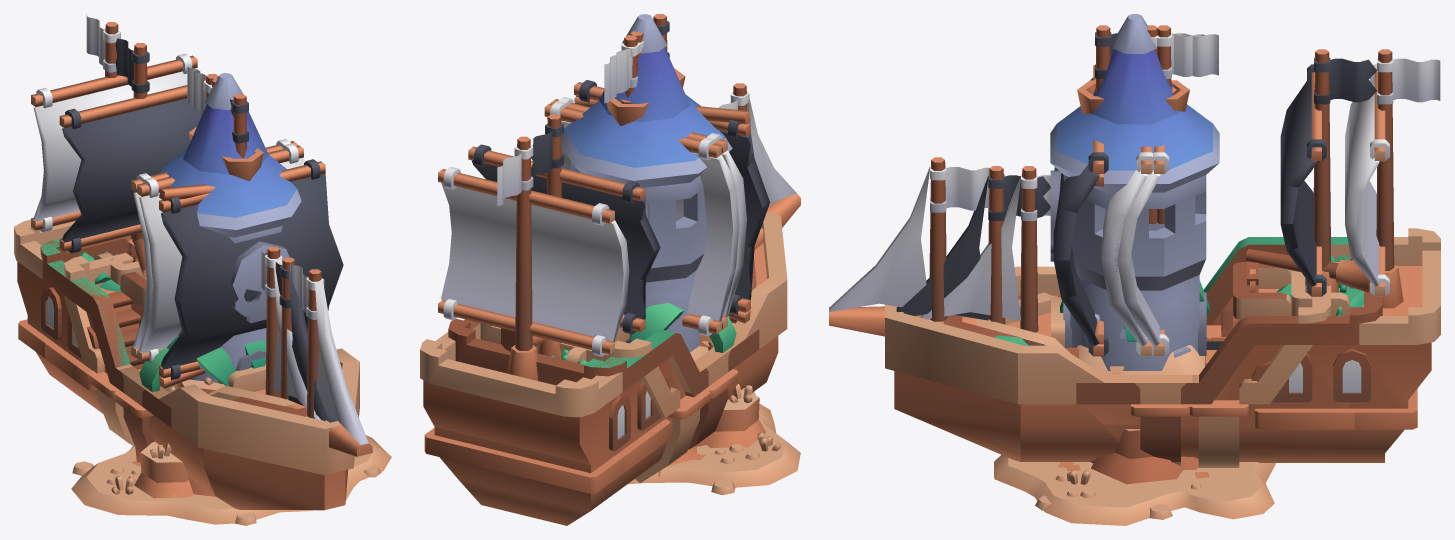
File: pirate.glb
3 renders of one model, left to right at view 1: azimuth 30°, elevation 25°; view 2: azimuth 150°, elevation 25°; view 3: azimuth 270°, elevation 25°, orthographic. The views are drawn at different scales.
Visible parts, largest first — view 1: ship-large~mesh, ship-pirate-medium~3, ship-pirate-medium~2, ship-pirate-medium~mesh, tower-complete-large~0, ship-large~2, ship-small~mesh, patch-sand-foliage~0, ship-wreck~mesh, ship-large~3, rocks-sand-a~0, ship-small~3 (+6 smaller); view 2: ship-large~mesh, ship-large~2, tower-complete-large~0, ship-wreck~mesh, ship-small~3, ship-pirate-medium~mesh, ship-pirate-medium~2, patch-sand-foliage~0, ship-pirate-medium~3, ship-small~mesh, rocks-sand-a~0, ship-large~3 (+6 smaller); view 3: ship-large~mesh, tower-complete-large~0, ship-pirate-medium~mesh, ship-wreck~mesh, ship-small~mesh, patch-sand-foliage~0, ship-pirate-medium~2, ship-large~2, ship-pirate-medium~3, ship-large~3, ship-small~3, rocks-sand-a~0 (+8 smaller).
Part boxes in pixels (box(x1,y1,x2,y2)): ship-large~mesh: box(14, 22, 372, 510); ship-pirate-medium~3: box(159, 159, 343, 380); ship-pirate-medium~2: box(59, 85, 201, 253); ship-pirate-medium~mesh: box(40, 43, 337, 453); tower-complete-large~0: box(160, 73, 301, 385); ship-large~2: box(31, 53, 197, 232); ship-small~mesh: box(64, 74, 321, 420); patch-sand-foliage~0: box(71, 435, 391, 525); ship-wreck~mesh: box(41, 94, 315, 451); ship-large~3: box(137, 143, 304, 363); rocks-sand-a~0: box(131, 377, 225, 498); ship-small~3: box(131, 139, 297, 357); ship-large~mesh: box(420, 31, 800, 525); ship-large~2: box(438, 167, 629, 356); tower-complete-large~0: box(561, 14, 732, 352); ship-wreck~mesh: box(448, 16, 762, 471); ship-small~3: box(544, 101, 739, 336); ship-pirate-medium~mesh: box(449, 14, 763, 471); ship-pirate-medium~2: box(468, 144, 660, 334); patch-sand-foliage~0: box(628, 392, 800, 495); ship-pirate-medium~3: box(574, 80, 769, 314); ship-small~mesh: box(480, 35, 738, 438); rocks-sand-a~0: box(694, 333, 766, 460); ship-large~3: box(550, 97, 746, 329); ship-large~mesh: box(829, 25, 1440, 467); tower-complete-large~0: box(1050, 14, 1219, 463); ship-pirate-medium~mesh: box(896, 25, 1382, 461); ship-wreck~mesh: box(914, 28, 1382, 461); ship-small~mesh: box(920, 25, 1330, 466); patch-sand-foliage~0: box(994, 455, 1275, 525); ship-pirate-medium~2: box(1280, 64, 1326, 296); ship-large~2: box(1345, 64, 1389, 296); ship-pirate-medium~3: box(1050, 78, 1108, 356); ship-large~3: box(1101, 146, 1155, 356); ship-small~3: box(1114, 145, 1169, 356); rocks-sand-a~0: box(1057, 429, 1182, 484).
Size of the model in its own units: 7.74 by 10.23 by 13.1.
1 material, 1 textured.
